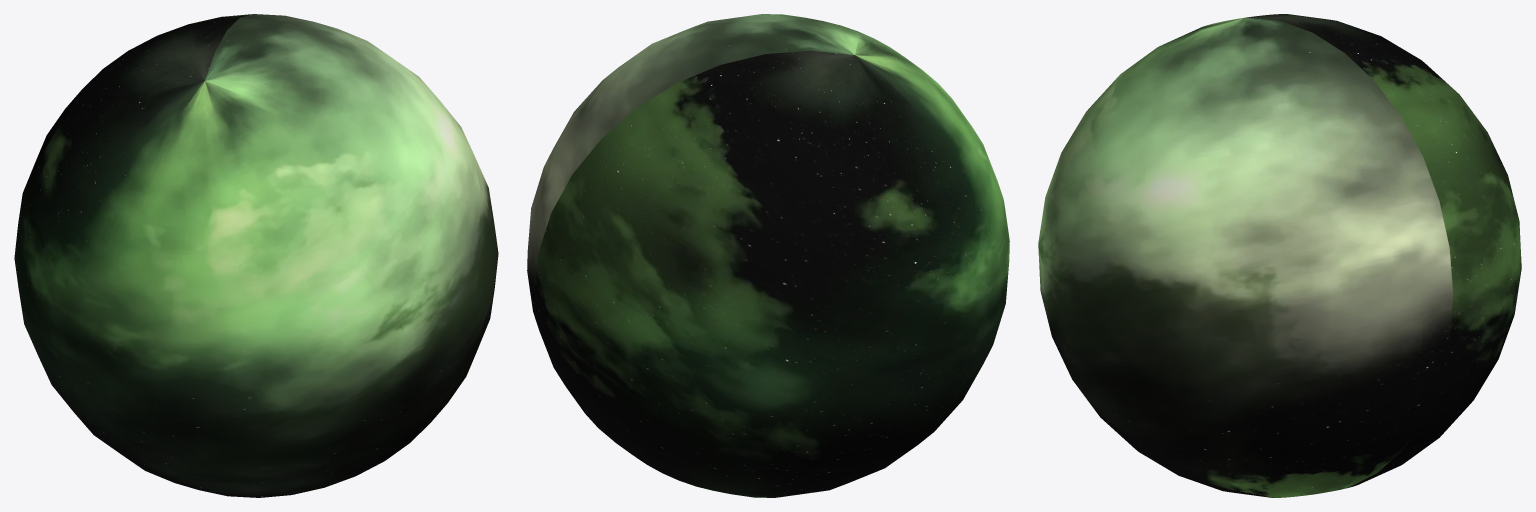
The model's file is astro-com-2.glb.
3 renders of one model, left to right at view 1: azimuth 30°, elevation 25°; view 2: azimuth 150°, elevation 25°; view 3: azimuth 270°, elevation 25°, orthographic.
Visible parts, largest first — view 1: Sphere; view 2: Sphere; view 3: Sphere.
Part boxes in pixels (<box>): Sphere: <box>14,14,498,497</box>; Sphere: <box>527,14,1009,497</box>; Sphere: <box>1038,14,1521,497</box>.
Size of the model in its own units: 11.92 by 11.95 by 11.93.
2 materials, 2 textured.
